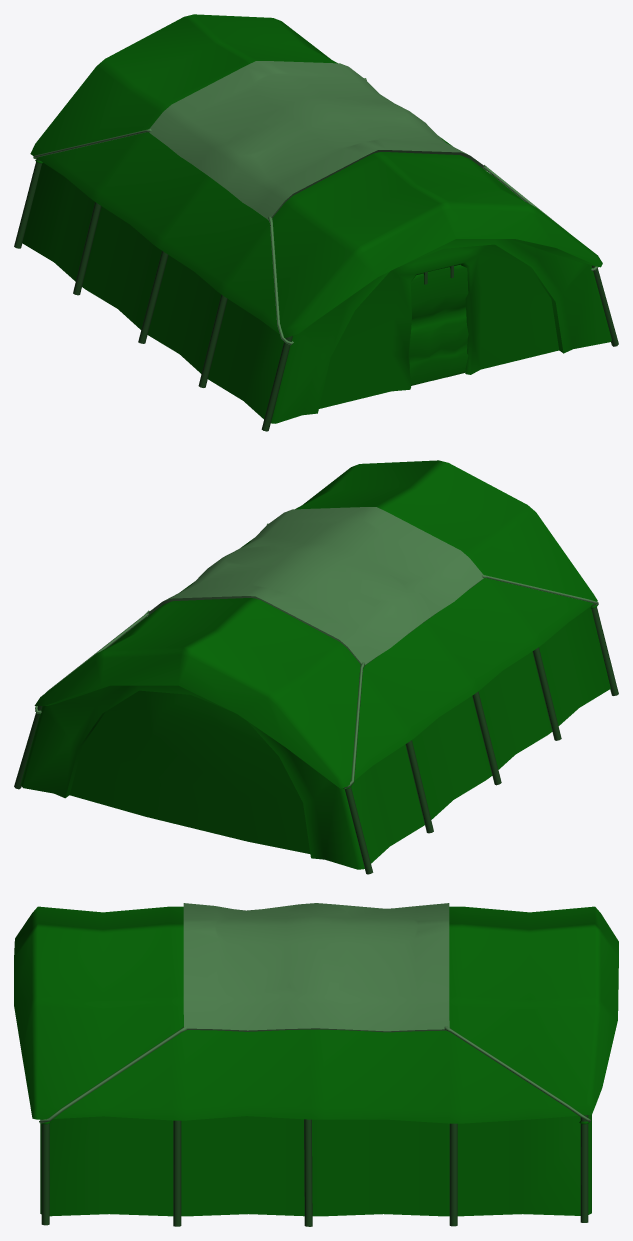
The model's file is TentClosed.fbx.
3 renders of one model, top to bottom at view 1: azimuth 30°, elevation 25°; view 2: azimuth 150°, elevation 25°; view 3: azimuth 270°, elevation 25°, orthographic. The views are drawn at different scales.
Parts seen in each view (by area): view 1: TentClosed; view 2: TentClosed; view 3: TentClosed.
Part boxes in pixels (x1,y1,x2,y2): TentClosed: [14, 14, 618, 431]; TentClosed: [14, 460, 618, 874]; TentClosed: [14, 903, 618, 1226].
Bounding box in the file's own units: 6.98 × 3.54 × 9.25.
